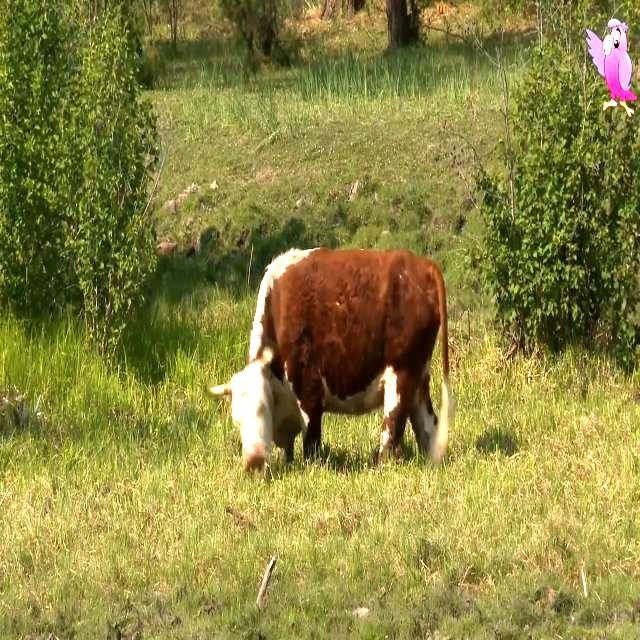COW: (211, 248, 449, 469)
